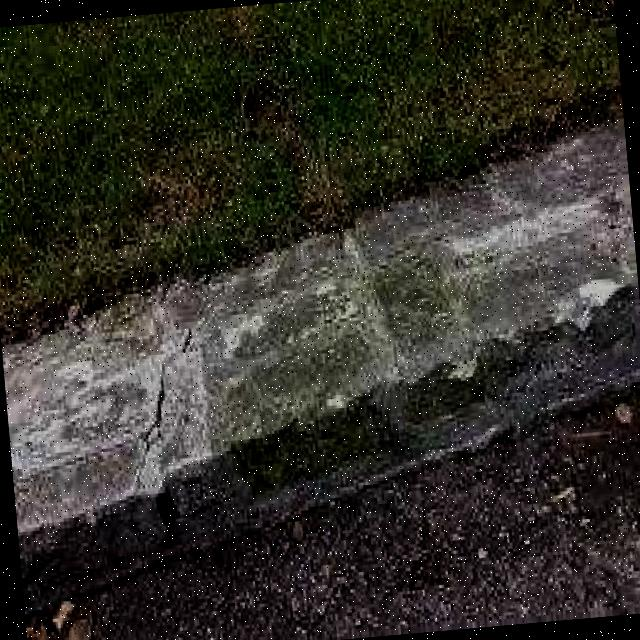curb: (1, 116, 640, 600)
